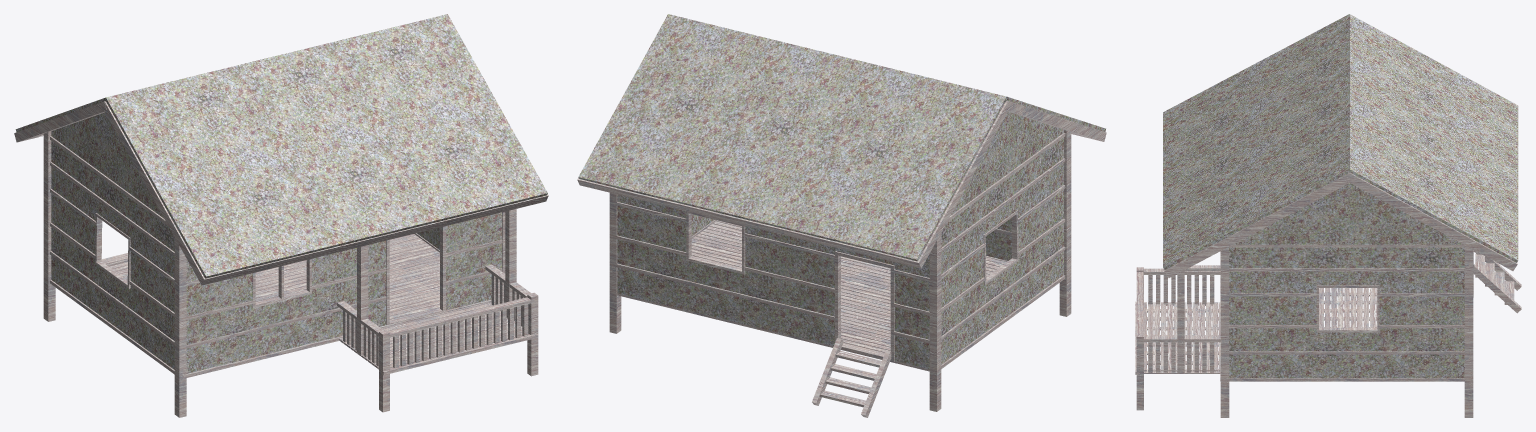
3 renders of one model, left to right at view 1: azimuth 30°, elevation 25°; view 2: azimuth 150°, elevation 25°; view 3: azimuth 270°, elevation 25°, orthographic. The views are drawn at different scales.
Visible parts, largest first — view 1: Wall1, Frame1; view 2: Wall1, Frame1; view 3: Wall1, Frame1.
Part boxes in pixels (x1=…): Wall1: x1=15, y1=14, x2=547, y2=373; Frame1: x1=14, y1=101, x2=548, y2=417; Wall1: x1=578, y1=14, x2=1105, y2=369; Frame1: x1=577, y1=100, x2=1106, y2=417; Wall1: x1=1163, y1=14, x2=1518, y2=378; Frame1: x1=1135, y1=173, x2=1521, y2=417.
Bounding box in the file's own units: 28.78 × 21.59 × 30.01.
Materials: 2 (2 with a texture image).
